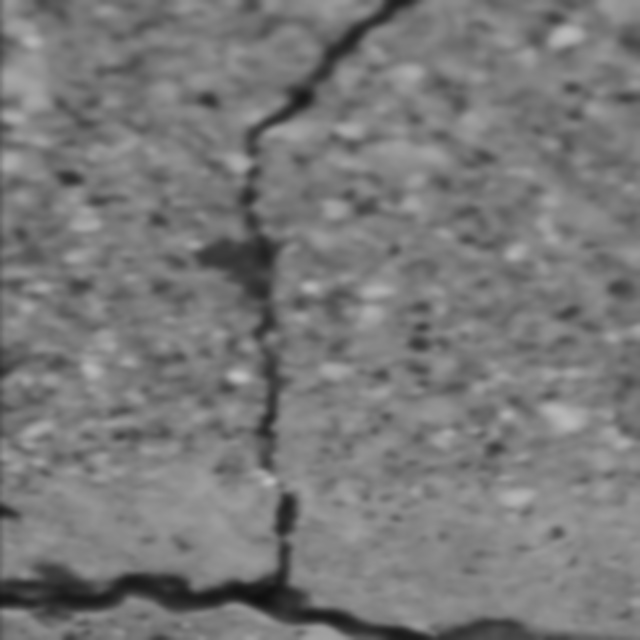SurfaceCrack: (178, 24, 467, 640)
